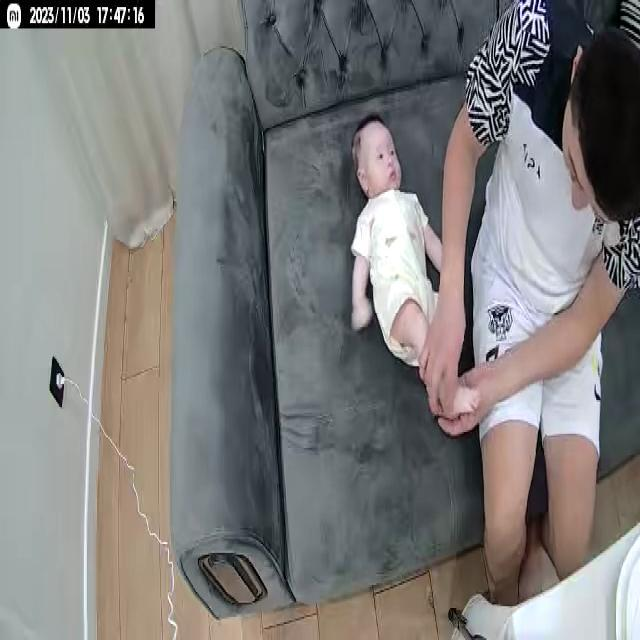baby: (347, 110, 478, 424)
